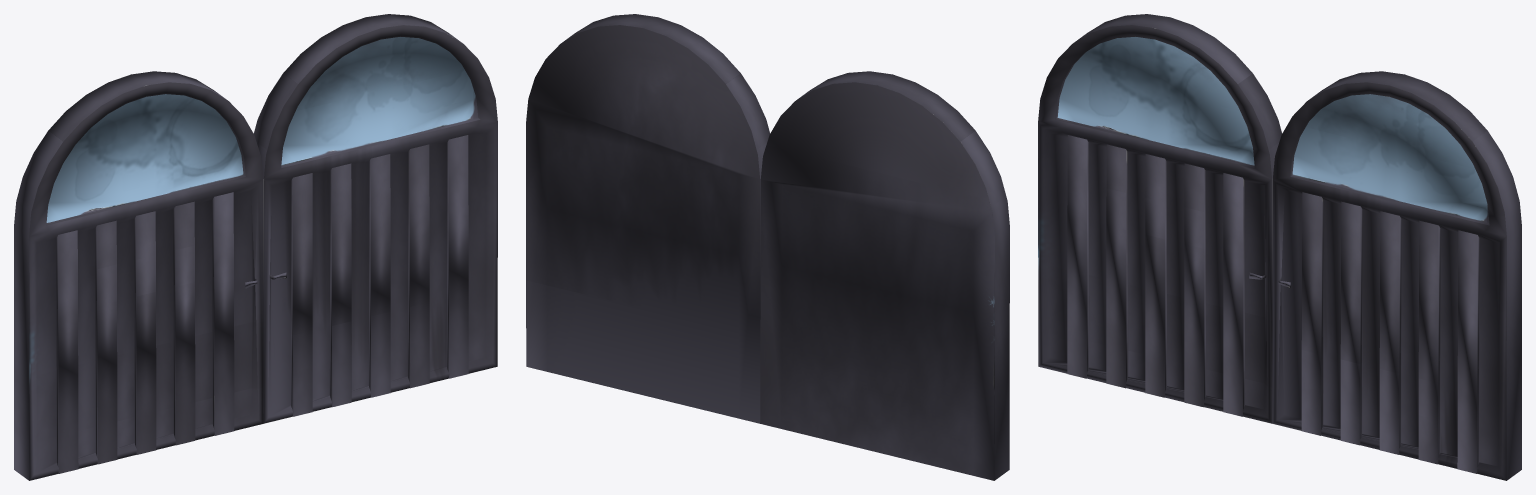
Rendered from porta_castelo_agua.fbx.
3 renders of one model, left to right at view 1: azimuth 30°, elevation 25°; view 2: azimuth 150°, elevation 25°; view 3: azimuth 330°, elevation 25°, orthographic.
Visible parts, largest first — view 1: Cube; view 2: Cube; view 3: Cube.
Boxes of the visible parts, x1=… form: Cube: x1=14, y1=14, x2=497, y2=480; Cube: x1=526, y1=14, x2=1009, y2=480; Cube: x1=1038, y1=14, x2=1521, y2=480.
Size of the model in its own units: 4 by 2.99 by 0.2609.
